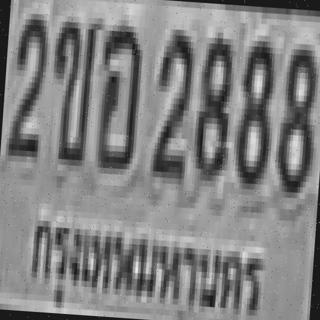A02: (46, 18, 98, 164)
A43: (92, 19, 144, 172)
N02: (150, 25, 195, 176), (6, 7, 48, 158)
N08: (275, 37, 320, 194), (232, 36, 278, 186), (191, 32, 236, 182)
P04: (22, 208, 270, 320)
